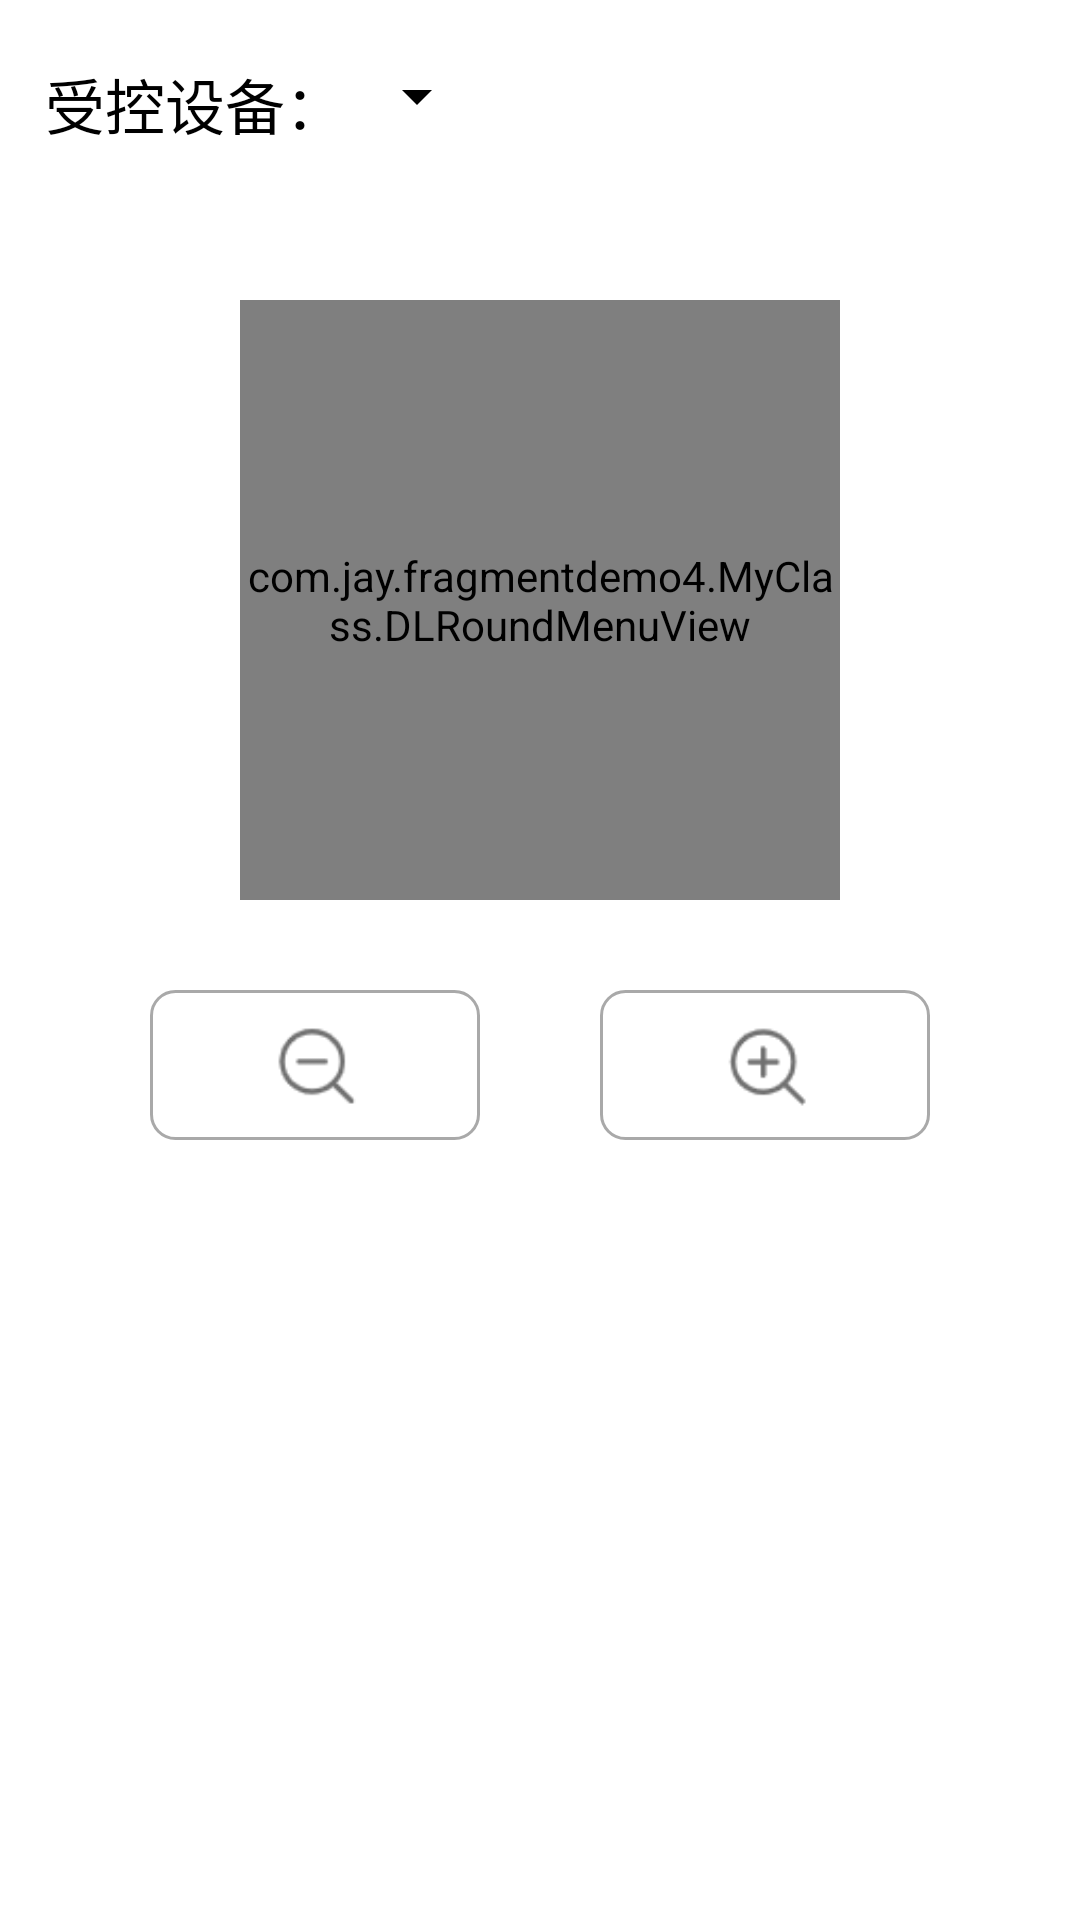

Screen size 1080*1920. Icon name, then its box in pixels as box(x1, y1, x2, y2):
fangda: box(600, 990, 930, 1140)
suoxiao: box(150, 990, 480, 1140)
